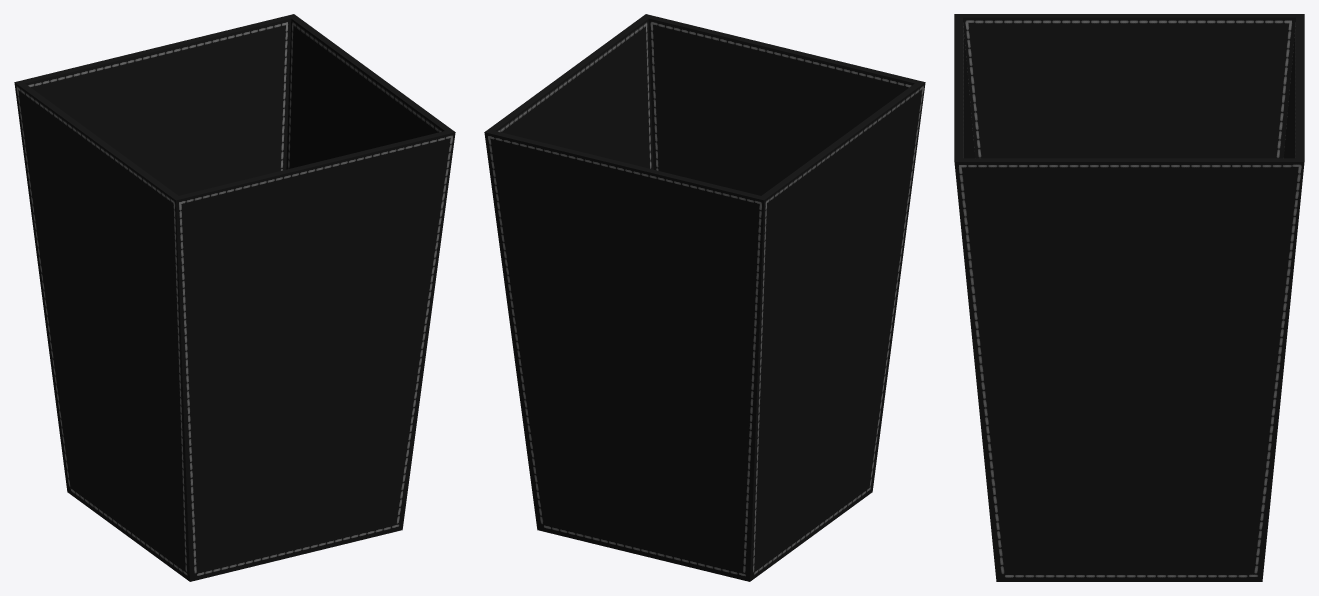
The model's file is TrashCan_02.fbx.
The picture shows the model from 3 angles, left to right: view 1: azimuth 30°, elevation 25°; view 2: azimuth 150°, elevation 25°; view 3: azimuth 270°, elevation 25°; orthographic projection. The views are drawn at different scales.
Parts seen in each view (by area): view 1: TrashCan_02; view 2: TrashCan_02; view 3: TrashCan_02.
Part boxes in pixels (x1,y1,x2,y2): TrashCan_02: [14, 14, 455, 581]; TrashCan_02: [484, 14, 925, 581]; TrashCan_02: [954, 14, 1304, 581].
Size of the model in its own units: 9.84 by 13.58 by 9.84.
